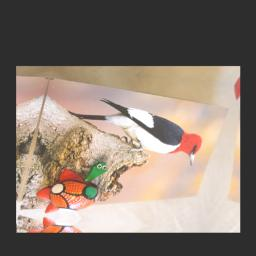Woodpecker: (57, 95, 212, 167)
